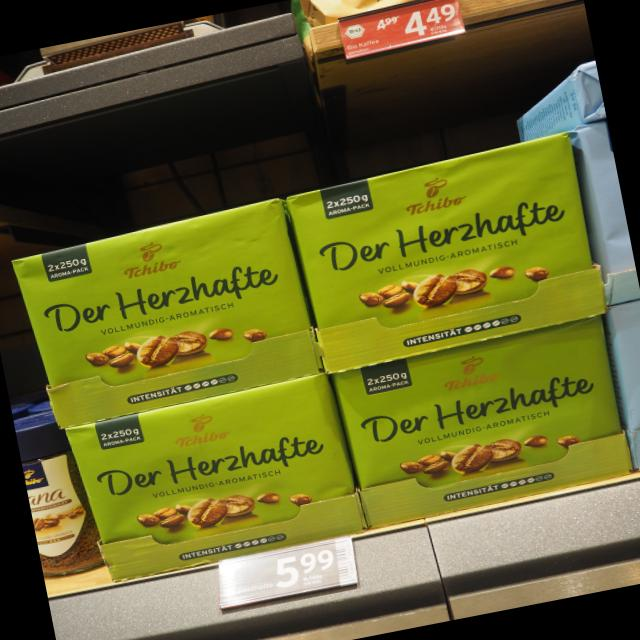Herzhatfe Mundig: (282, 128, 612, 375), (7, 194, 326, 432), (329, 313, 636, 528), (63, 373, 369, 585)
